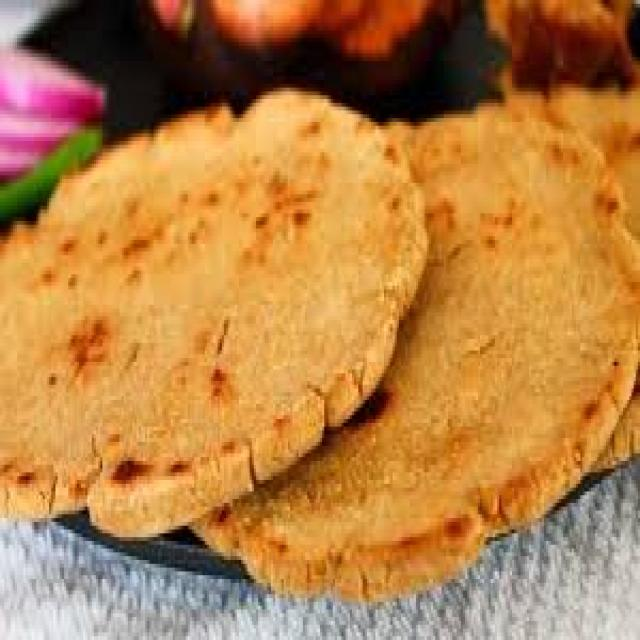ROTI: (0, 95, 422, 530)
